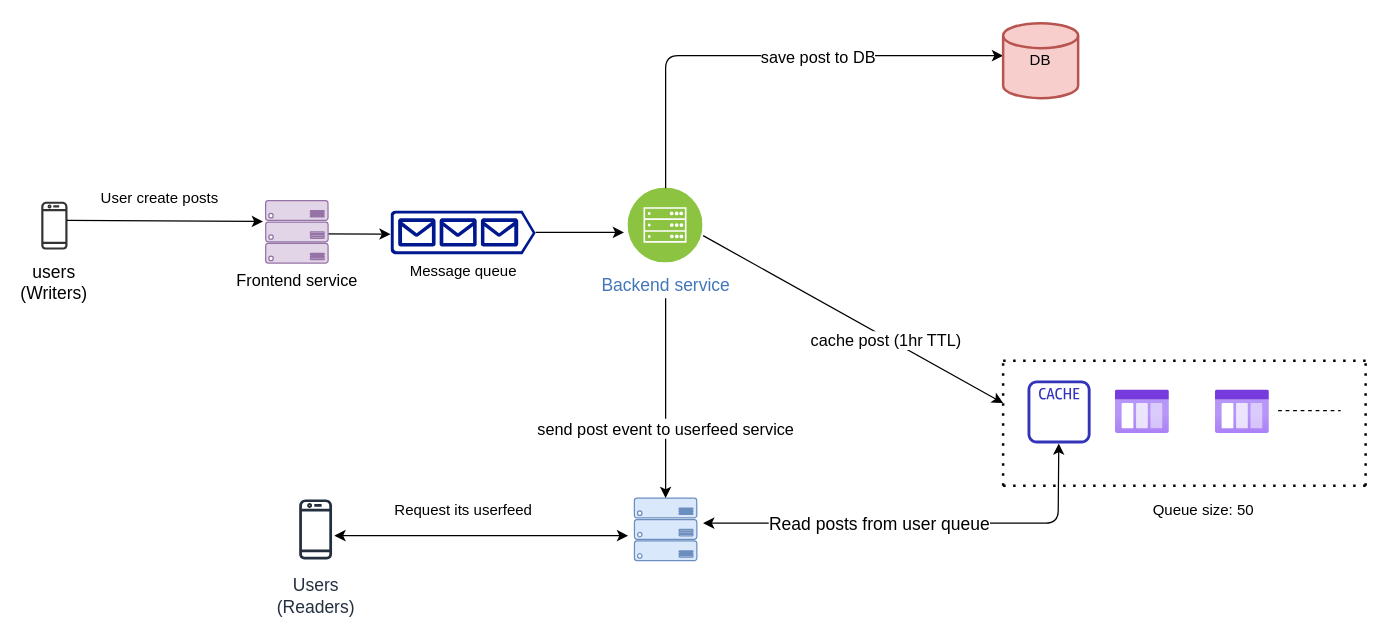
Image size: 1390x639. Some labels were removed from this diagram. Each missing label, with the box of its shape:
user queue (user 1): (1115, 389, 1169, 433)
user queue (user 2): (1215, 389, 1269, 433)
Userfeed service: (633, 497, 697, 561)
